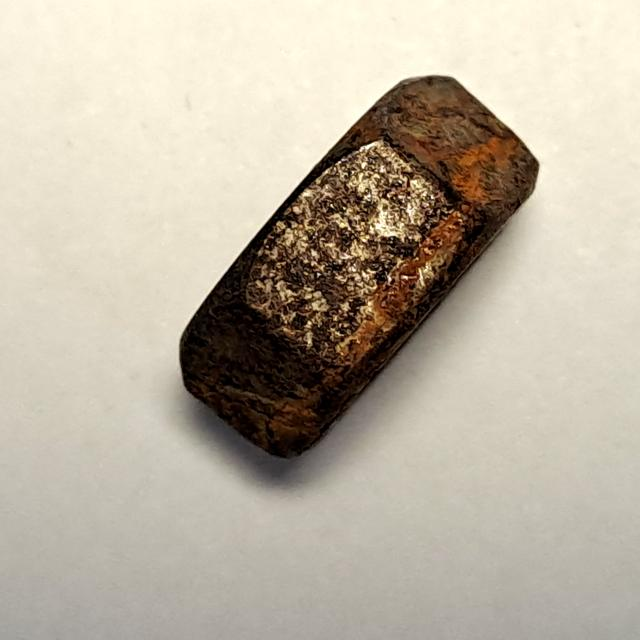Side_Rust: (168, 62, 558, 474)
